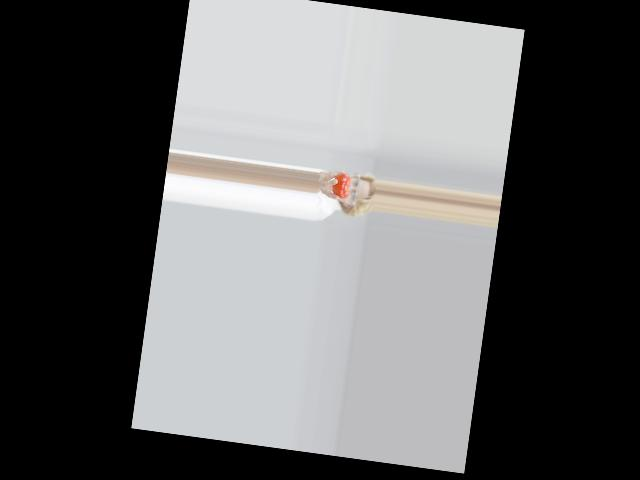tomato: (330, 172, 351, 200)
